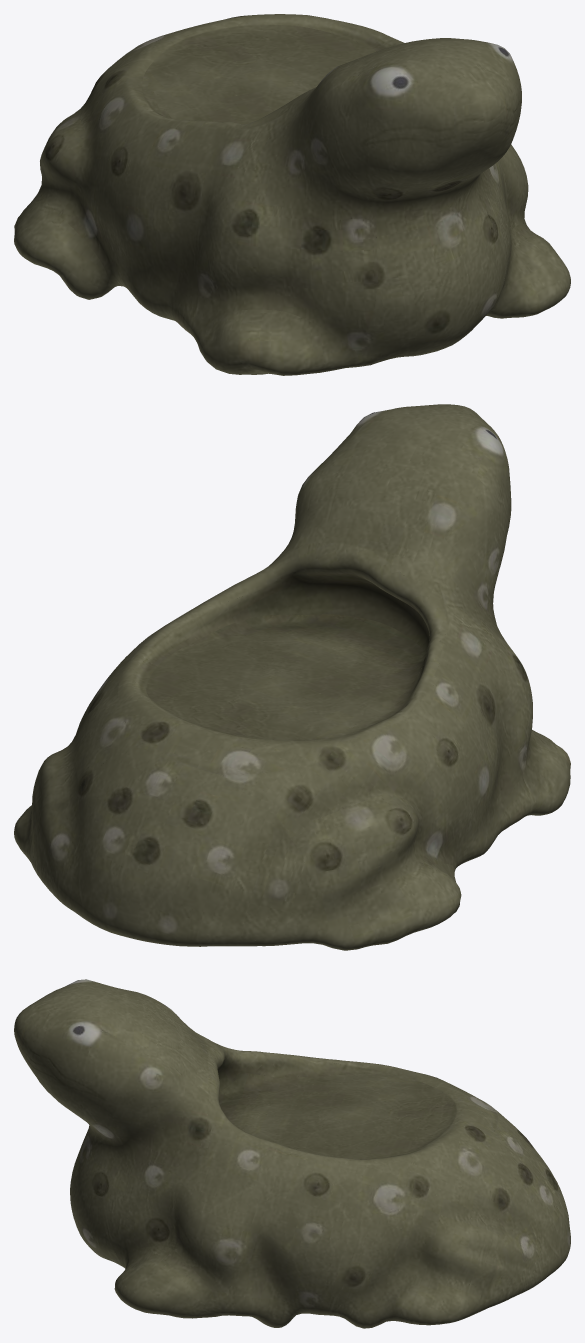
The model's file is toad.glb.
The picture shows the model from 3 angles, top to bottom: view 1: azimuth 30°, elevation 25°; view 2: azimuth 150°, elevation 25°; view 3: azimuth 270°, elevation 25°; orthographic projection. The views are drawn at different scales.
Visible parts, largest first — view 1: SM_ToadInkStone; view 2: SM_ToadInkStone; view 3: SM_ToadInkStone.
Part boxes in pixels (x1,y1,x2,y2): SM_ToadInkStone: [14, 14, 570, 375]; SM_ToadInkStone: [14, 404, 570, 950]; SM_ToadInkStone: [14, 979, 570, 1328].
Size of the model in its own units: 0.1859 by 0.1419 by 0.2612.
Materials: 1 (1 with a texture image).
